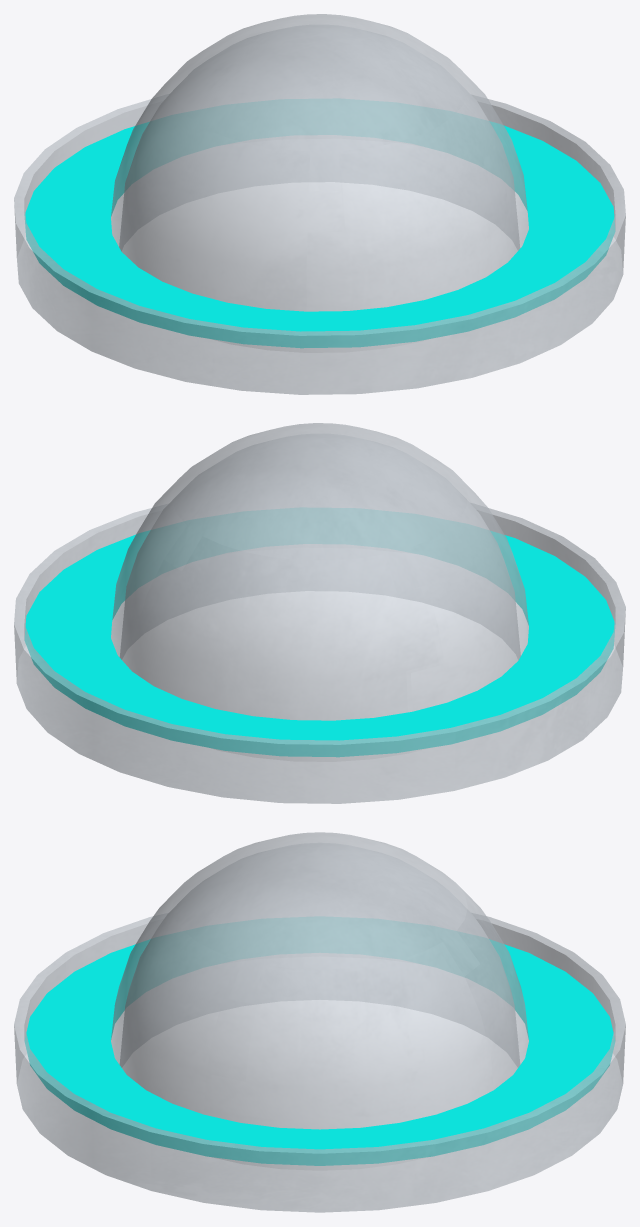
File: yoTyanShakerv3.fbx
3 renders of one model, top to bottom at view 1: azimuth 30°, elevation 25°; view 2: azimuth 150°, elevation 25°; view 3: azimuth 270°, elevation 25°, orthographic.
Parts seen in each view (by area): view 1: Sphere; view 2: Sphere; view 3: Sphere.
Boxes of the visible parts, box(x1,y1,x2,y2) form: Sphere: box(14, 14, 625, 394); Sphere: box(14, 423, 625, 803); Sphere: box(14, 832, 625, 1212).
Bounding box in the file's own units: 21.3 × 8.97 × 21.3.
Materials: 2 (1 with a texture image).
